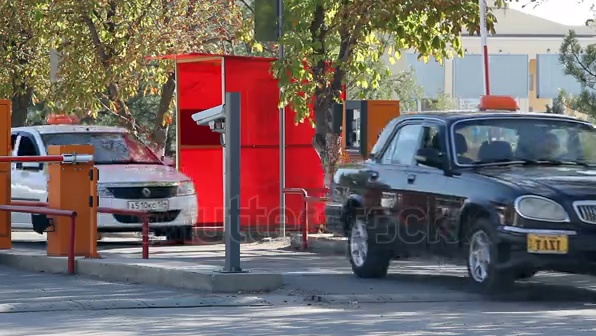licenseplate: (124, 196, 177, 214)
